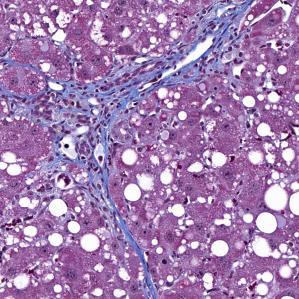fibrosis: (39, 71, 143, 149), (157, 8, 251, 78), (97, 183, 141, 259)
